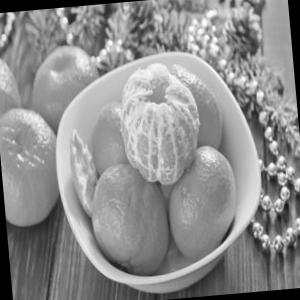fruit: (62, 148, 183, 282), (108, 57, 216, 194), (150, 138, 244, 252), (20, 46, 119, 137)
